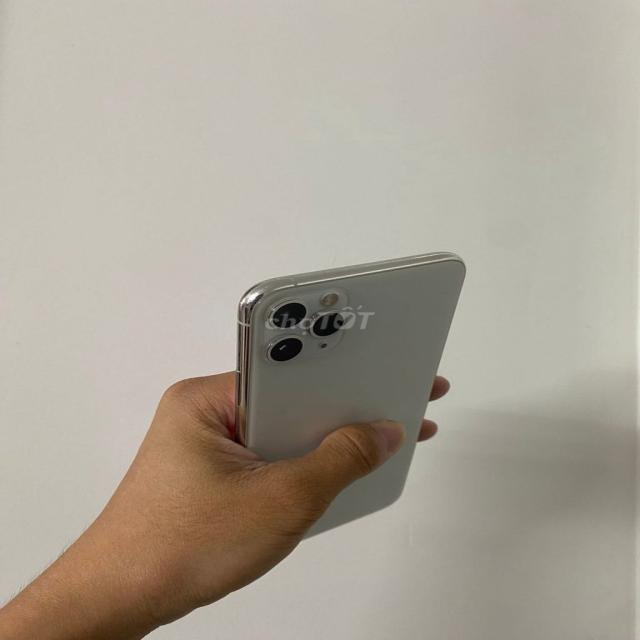gen_11: (237, 252, 464, 534)
